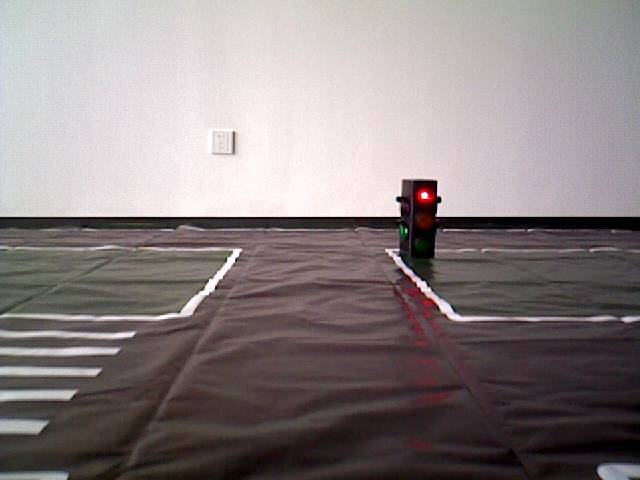red: (401, 181, 432, 255)
